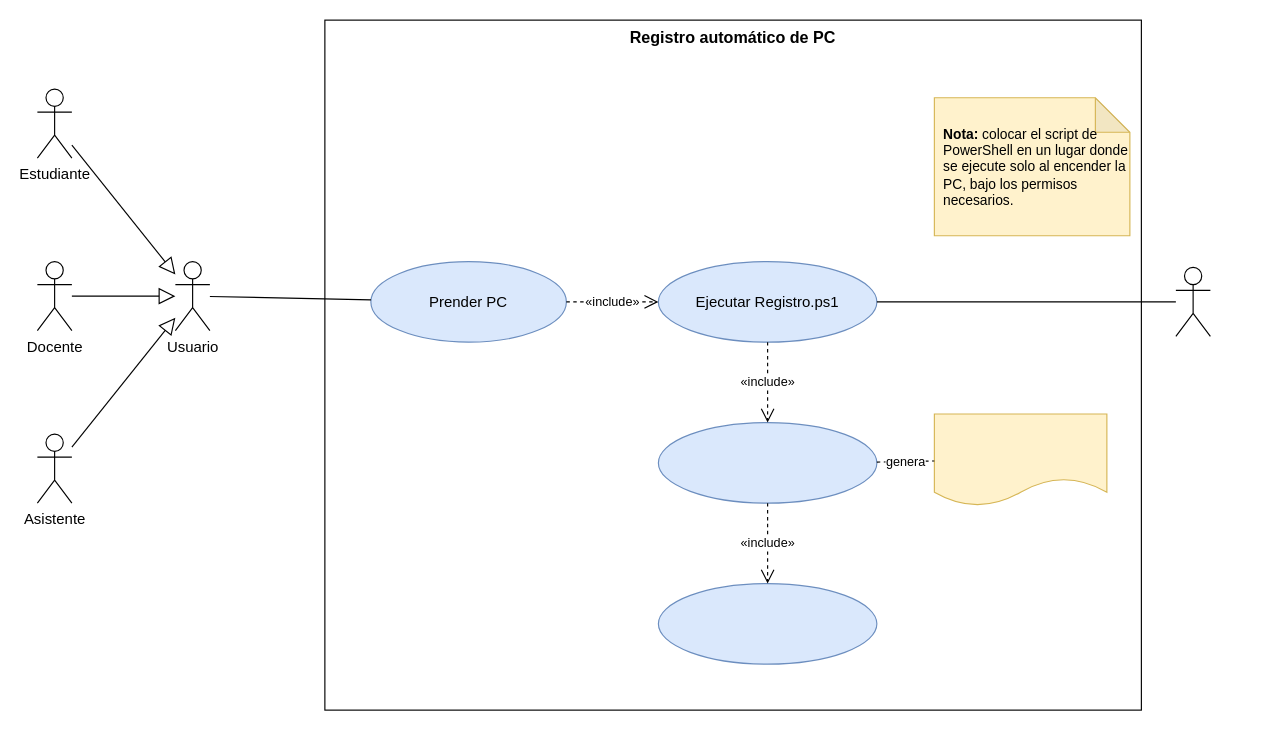
The diagram is 1272 pixels wide and 730 high, and some of its shapes have lost their labels. The shapes that lost their labels are listed below. From the top down, each one's centre as x and y in pixels, then its label:
point (1192, 301): Script PowerShell (sistema)
point (767, 462): Generar registro
point (1020, 459): Archivo TOML (datos de registro)
point (767, 623): Registrar PC en el servidor
